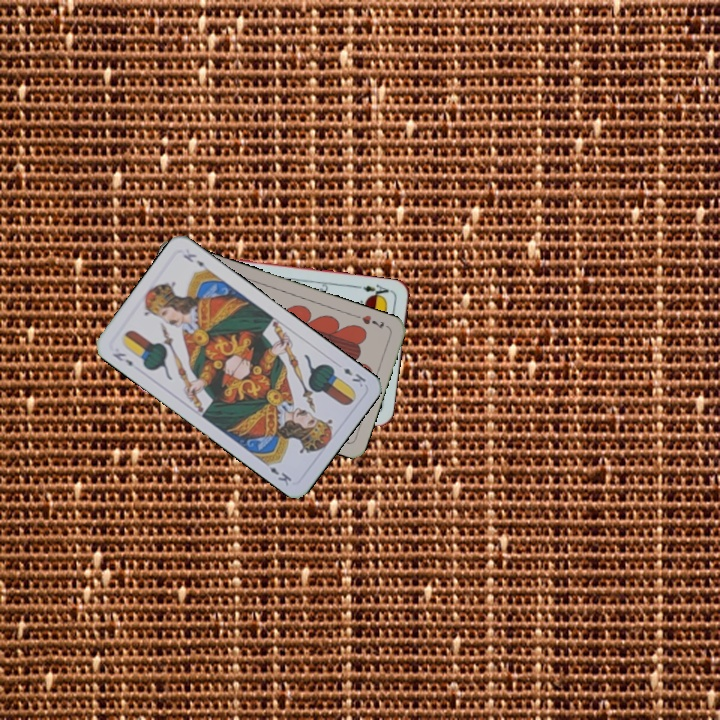EA: (359, 280, 394, 301)
EK: (339, 364, 368, 390), (108, 348, 136, 369)
H7: (351, 311, 387, 332)
